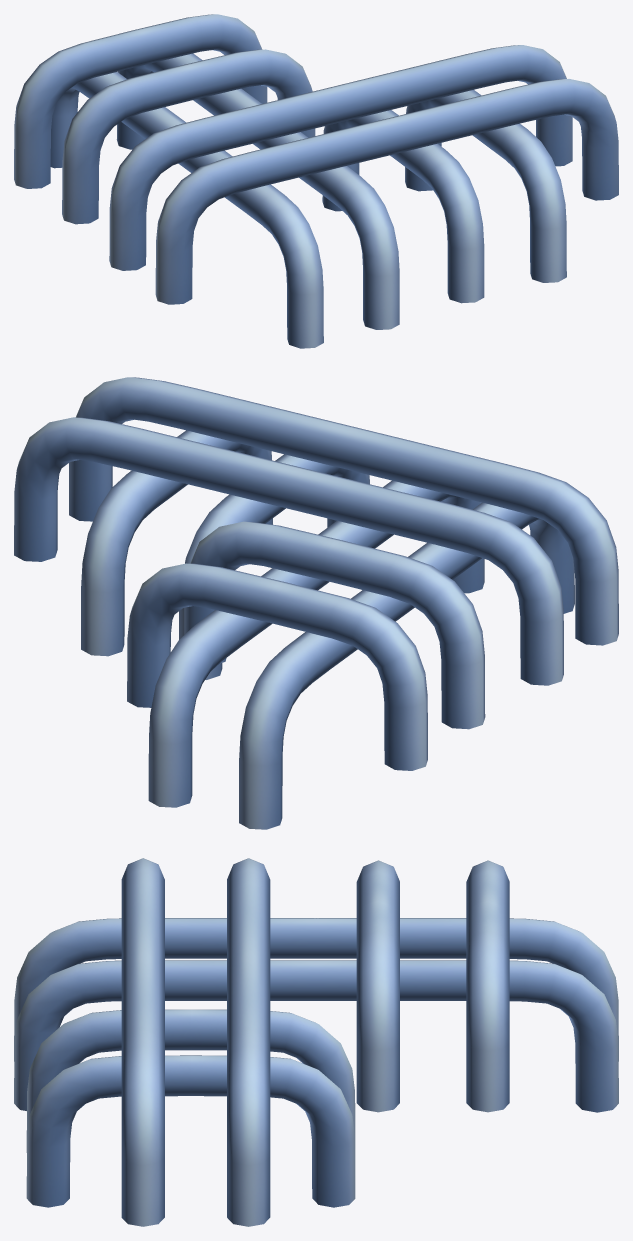
Rendered from Lock_L.fbx.
3 views of the same model, one above another, from view 1: azimuth 30°, elevation 25°; view 2: azimuth 150°, elevation 25°; view 3: azimuth 270°, elevation 25° (orthographic). The views are drawn at different scales.
Visible parts, largest first — view 1: lock_L; view 2: lock_L; view 3: lock_L.
Part boxes in pixels (left/top/right/bottom): lock_L: left=14, top=14, right=618, bottom=348; lock_L: left=14, top=377, right=618, bottom=829; lock_L: left=14, top=858, right=618, bottom=1226.
Size of the model in its own units: 2.38 by 0.779 by 2.38.
